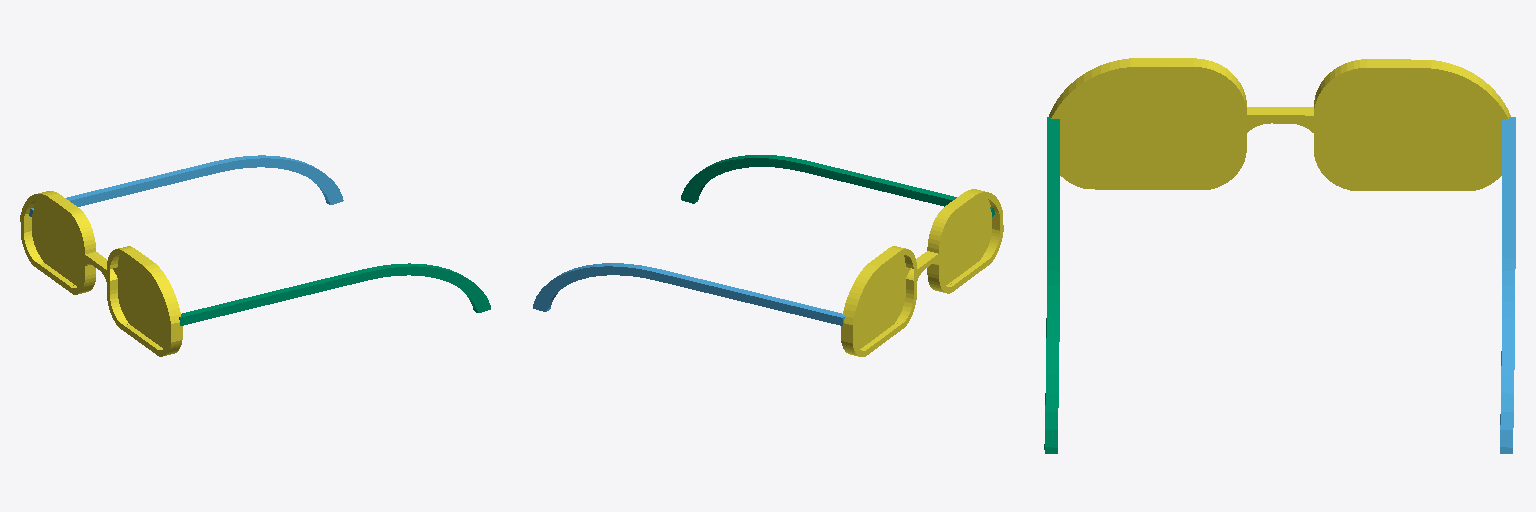
robot.urdf — partnet_22daa425635af8052b2526f3093deae8:
<?xml version="1.0" ?>
<robot name="partnet_22daa425635af8052b2526f3093deae8">
	<link name="base"/>
	<link name="link_0">
		<visual name="leg-1">
			<origin xyz="0.4597140065965496 -0.0380194489047434 -0.23793855087017035"/>
			<geometry>
				<mesh filename="textured_objs/original-8.obj"/>
			</geometry>
		</visual>
		<collision>
			<origin xyz="0.4597140065965496 -0.0380194489047434 -0.23793855087017035"/>
			<geometry>
				<mesh filename="textured_objs/original-8.obj"/>
			</geometry>
		</collision>
	</link>
	<joint name="joint_0" type="revolute">
		<origin xyz="-0.4597140065965496 0.0380194489047434 0.23793855087017035"/>
		<axis xyz="0 -1 0"/>
		<child link="link_0"/>
		<parent link="link_2"/>
		<limit lower="-0.0" upper="1.2817698026646356"/>
	</joint>
	<link name="link_1">
		<visual name="leg-2">
			<origin xyz="-0.4496957393152087 -0.037933707436609065 -0.23215343099202657"/>
			<geometry>
				<mesh filename="textured_objs/original-9.obj"/>
			</geometry>
		</visual>
		<collision>
			<origin xyz="-0.4496957393152087 -0.037933707436609065 -0.23215343099202657"/>
			<geometry>
				<mesh filename="textured_objs/original-9.obj"/>
			</geometry>
		</collision>
	</link>
	<joint name="joint_1" type="revolute">
		<origin xyz="0.4496957393152087 0.037933707436609065 0.23215343099202657"/>
		<axis xyz="0 1 0"/>
		<child link="link_1"/>
		<parent link="link_2"/>
		<limit lower="0.0" upper="1.382300767579509"/>
	</joint>
	<link name="link_2">
		<visual name="base_body-3">
			<origin xyz="0 0 0"/>
			<geometry>
				<mesh filename="textured_objs/original-4.obj"/>
			</geometry>
		</visual>
		<visual name="base_body-3">
			<origin xyz="0 0 0"/>
			<geometry>
				<mesh filename="textured_objs/original-3.obj"/>
			</geometry>
		</visual>
		<visual name="base_body-3">
			<origin xyz="0 0 0"/>
			<geometry>
				<mesh filename="textured_objs/original-6.obj"/>
			</geometry>
		</visual>
		<visual name="base_body-3">
			<origin xyz="0 0 0"/>
			<geometry>
				<mesh filename="textured_objs/original-7.obj"/>
			</geometry>
		</visual>
		<collision>
			<origin xyz="0 0 0"/>
			<geometry>
				<mesh filename="textured_objs/original-4.obj"/>
			</geometry>
		</collision>
		<collision>
			<origin xyz="0 0 0"/>
			<geometry>
				<mesh filename="textured_objs/original-3.obj"/>
			</geometry>
		</collision>
		<collision>
			<origin xyz="0 0 0"/>
			<geometry>
				<mesh filename="textured_objs/original-6.obj"/>
			</geometry>
		</collision>
		<collision>
			<origin xyz="0 0 0"/>
			<geometry>
				<mesh filename="textured_objs/original-7.obj"/>
			</geometry>
		</collision>
	</link>
	<joint name="joint_2" type="fixed">
		<origin rpy="1.570796326794897 0 -1.570796326794897" xyz="0 0 0"/>
		<child link="link_2"/>
		<parent link="base"/>
	</joint>
</robot>

--- Facts derived from the render (not from the file) ---
The picture shows the robot from 3 angles, left to right: view 1: azimuth 30°, elevation 25°; view 2: azimuth 150°, elevation 25°; view 3: azimuth 270°, elevation 25°; orthographic projection.
Model partnet_22daa425635af8052b2526f3093deae8 with 4 links and 3 joints (2 revolute, 1 fixed), rooted at base, posed every joint at zero.
Links seen in each view (by area): view 1: link_2, link_1, link_0; view 2: link_2, link_0, link_1; view 3: link_2, link_0, link_1.
Link boxes in pixels (box(x1,y1,x2,y2)): link_2: box(20, 191, 182, 356); link_1: box(179, 263, 490, 325); link_0: box(29, 155, 343, 216); link_2: box(841, 189, 1003, 356); link_0: box(533, 263, 844, 325); link_1: box(681, 155, 994, 216); link_2: box(1049, 58, 1510, 190); link_0: box(1500, 117, 1515, 453); link_1: box(1044, 117, 1059, 453).
Bounding box of the posed robot: 1.14 × 0.9446 × 0.3467 m (x, y, z).
6 mesh visuals loaded from 6 distinct referenced files (6 OBJ).